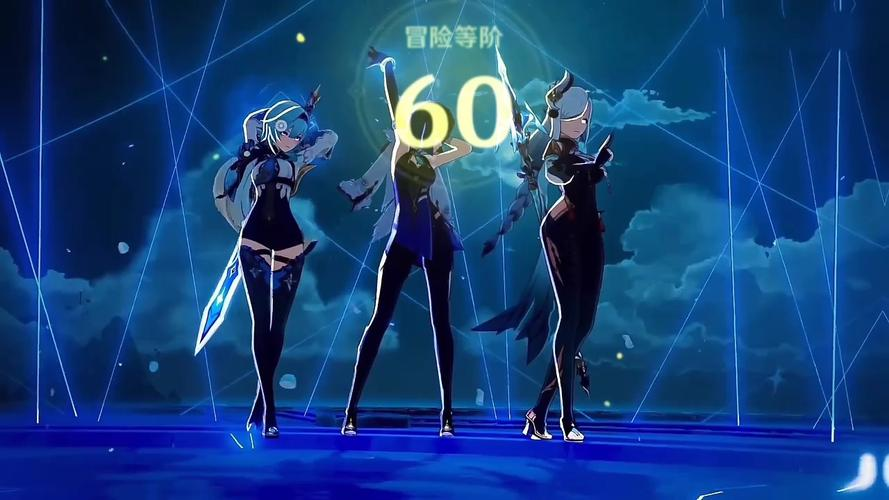夜兰: (342, 40, 467, 449)
